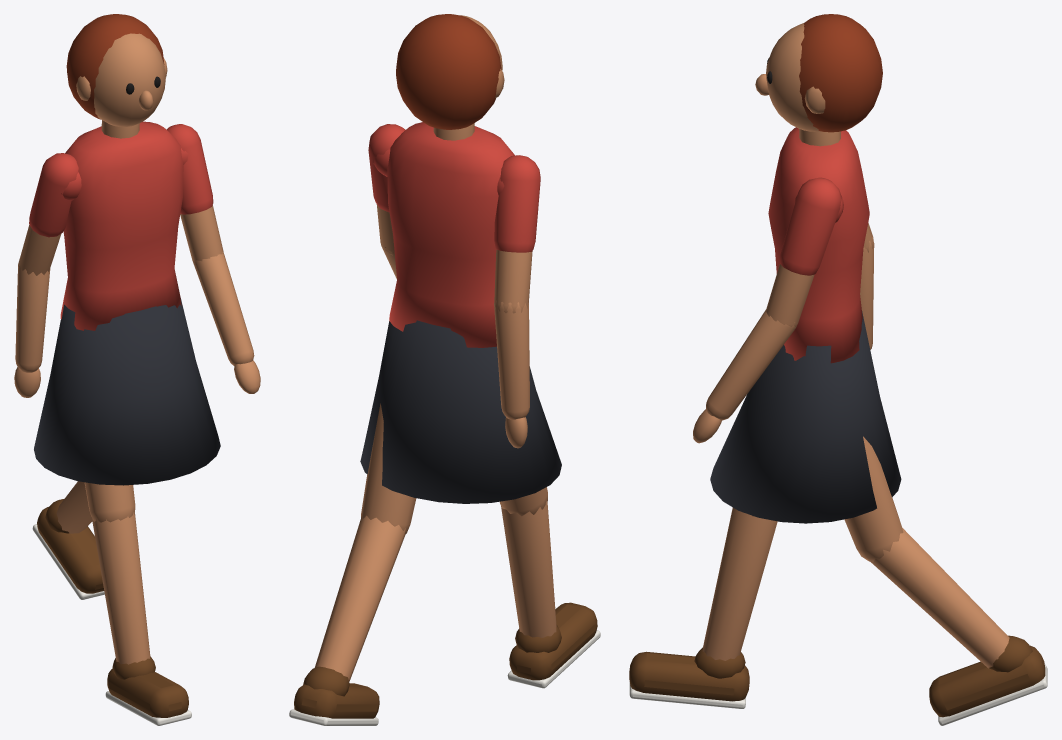
File: walker_red.fbx
3 views of the same model, side by side, from view 1: azimuth 30°, elevation 25°; view 2: azimuth 150°, elevation 25°; view 3: azimuth 270°, elevation 25° (orthographic). The views are drawn at different scales.
Parts seen in each view (by area): view 1: walker_red; view 2: walker_red; view 3: walker_red.
Part boxes in pixels (box(x1,y1,x2,y2)): walker_red: box(14, 14, 260, 725); walker_red: box(289, 14, 600, 725); walker_red: box(629, 14, 1047, 725).
Size of the model in its own units: 0.4913 by 1.74 by 0.9406.
